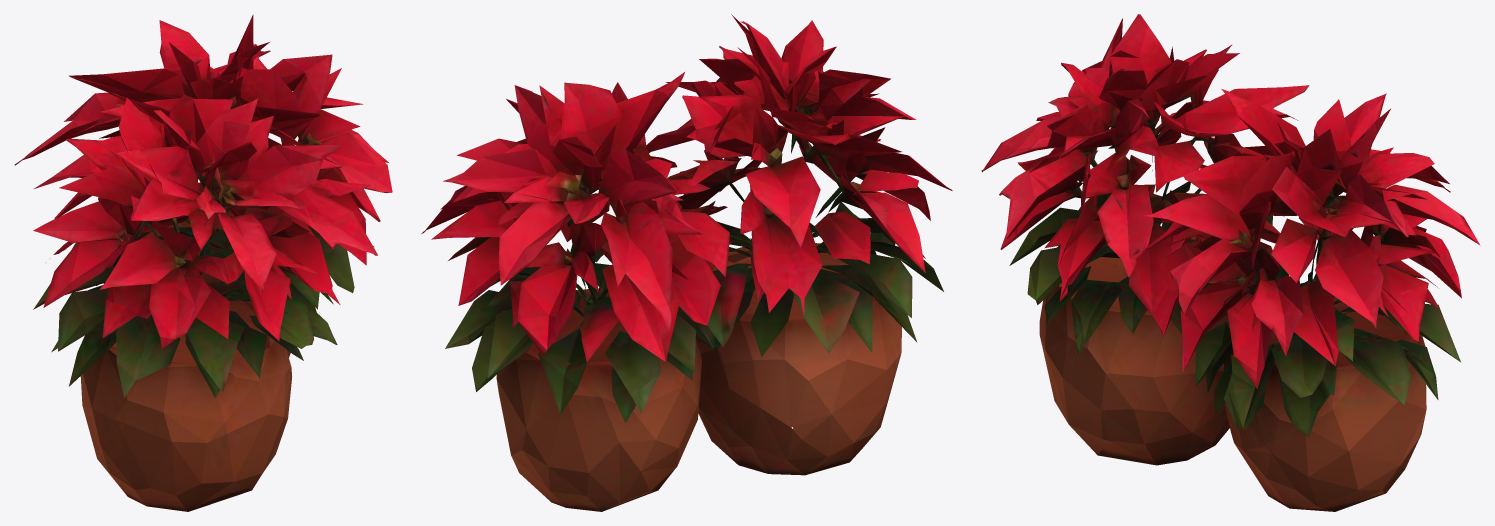
File: redplant.glb
3 views of the same model, side by side, from view 1: azimuth 30°, elevation 25°; view 2: azimuth 150°, elevation 25°; view 3: azimuth 270°, elevation 25° (orthographic). The views are drawn at different scales.
Visible parts, largest first — view 1: tripo_node_d41ecac8-5450-439d-83ef-30bd106b6917; view 2: tripo_node_d41ecac8-5450-439d-83ef-30bd106b6917; view 3: tripo_node_d41ecac8-5450-439d-83ef-30bd106b6917.
Part boxes in pixels (bbox=[...]): tripo_node_d41ecac8-5450-439d-83ef-30bd106b6917: bbox=[14, 14, 392, 511]; tripo_node_d41ecac8-5450-439d-83ef-30bd106b6917: bbox=[421, 14, 952, 511]; tripo_node_d41ecac8-5450-439d-83ef-30bd106b6917: bbox=[981, 14, 1480, 511].
Bounding box in the file's own units: 0.9411 × 0.86 × 0.9636.
Materials: 1 (1 with a texture image).
